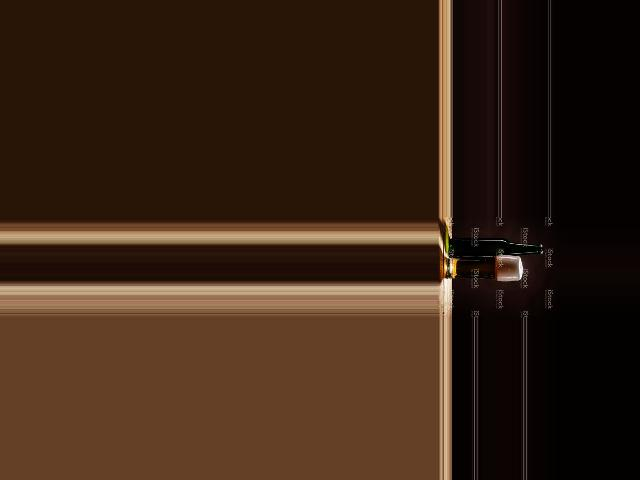beer: (448, 238, 543, 259)
